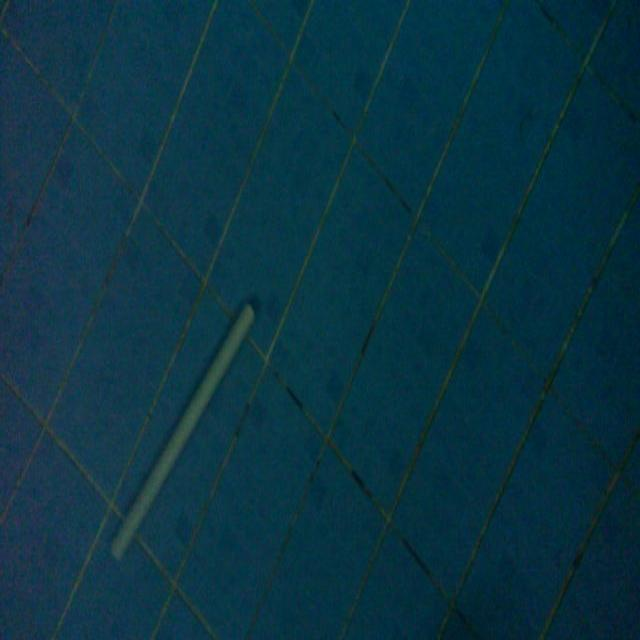Cube: (109, 295, 257, 562)
